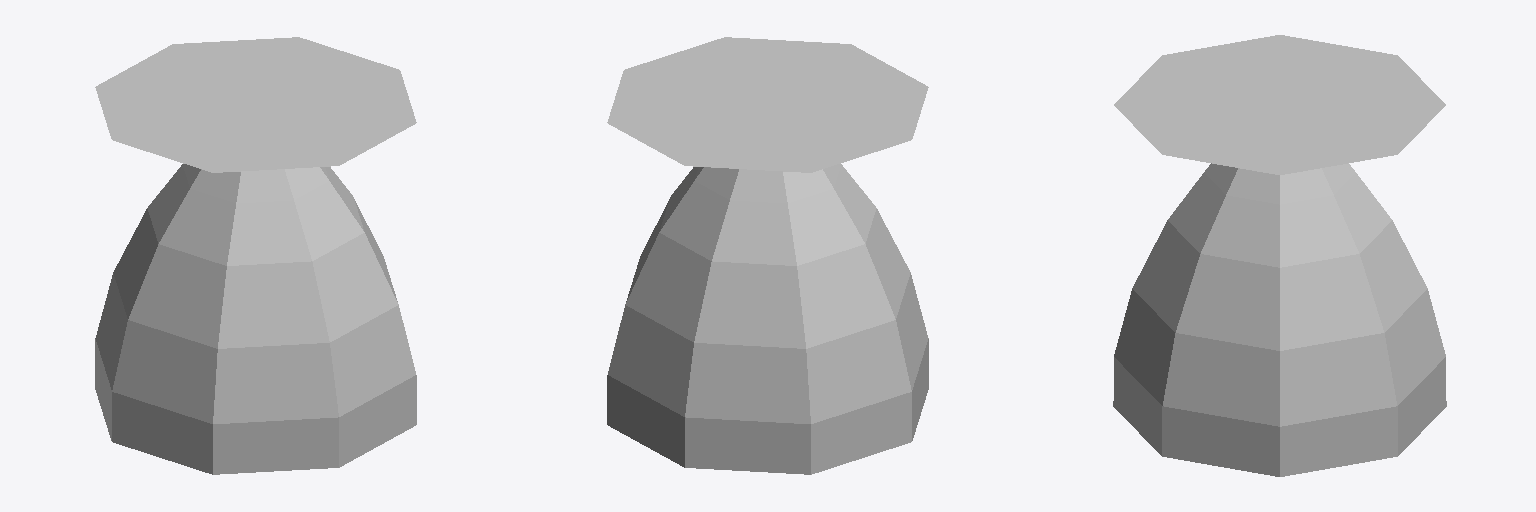
Rendered from engine.obj.
3 views of the same model, side by side, from view 1: azimuth 30°, elevation 25°; view 2: azimuth 150°, elevation 25°; view 3: azimuth 270°, elevation 25° (orthographic).
Parts seen in each view (by area): view 1: Cylinder; view 2: Cylinder; view 3: Cylinder.
Part boxes in pixels (x1,y1,x2,y2): Cylinder: (95,37,416,474); Cylinder: (607,37,928,474); Cylinder: (1113,35,1446,476).
Bounding box in the file's own units: 2 × 2 × 2.